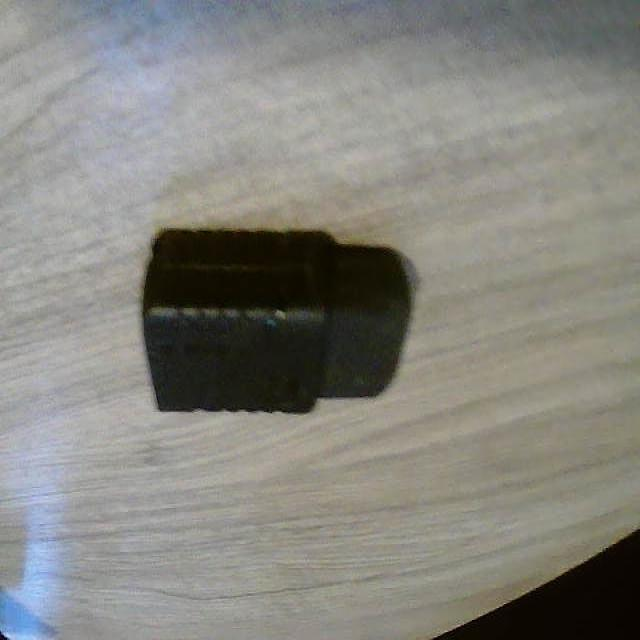borracha: (110, 189, 426, 451)
